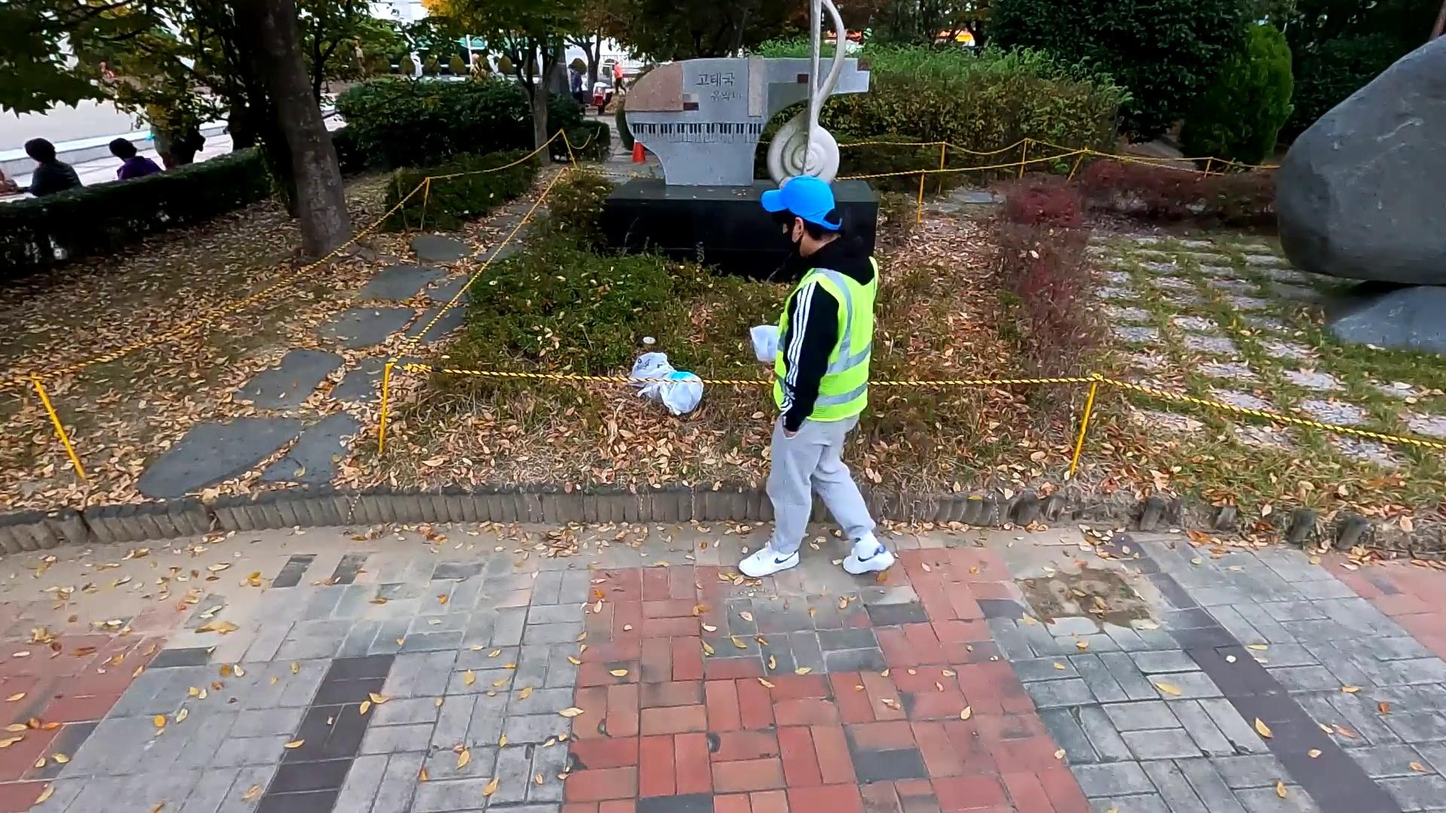person: (738, 170, 891, 592), (20, 138, 72, 204), (105, 130, 163, 179)
trash: (642, 362, 706, 415), (624, 349, 669, 391), (753, 326, 785, 367)
